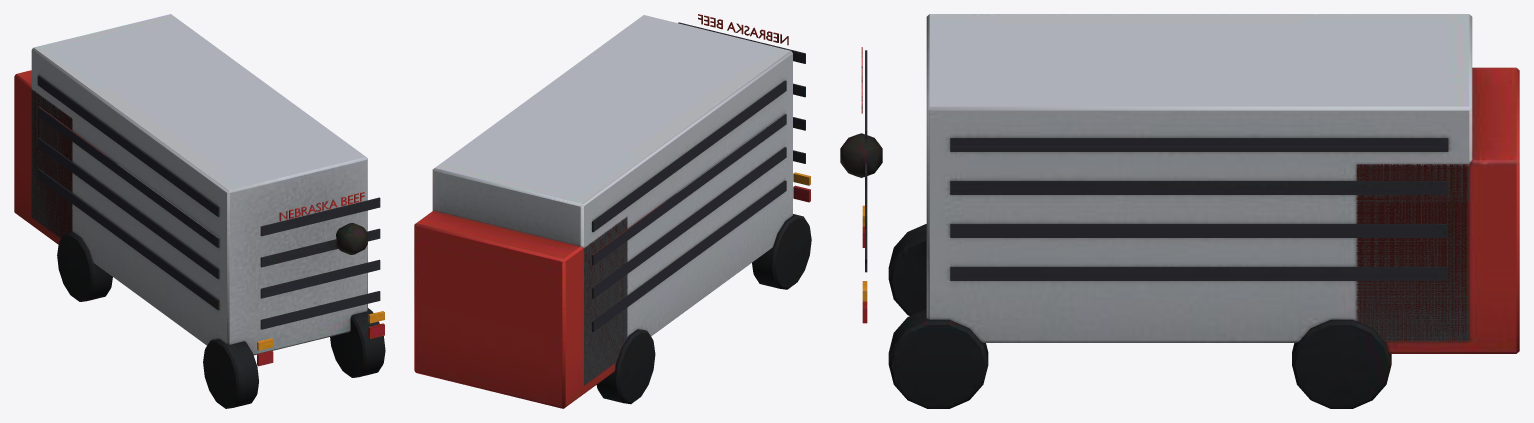
The model's file is camion_ganado.glb.
3 renders of one model, left to right at view 1: azimuth 30°, elevation 25°; view 2: azimuth 150°, elevation 25°; view 3: azimuth 270°, elevation 25°, orthographic. The views are drawn at different scales.
Parts seen in each view (by area): view 1: camion_ganado; view 2: camion_ganado; view 3: camion_ganado.
Part boxes in pixels (bbox=[...]): camion_ganado: bbox=[14, 14, 385, 408]; camion_ganado: bbox=[414, 14, 811, 408]; camion_ganado: bbox=[840, 14, 1519, 408].
Bounding box in the file's own units: 2 × 2.79 × 5.73.
1 material, 1 textured.
